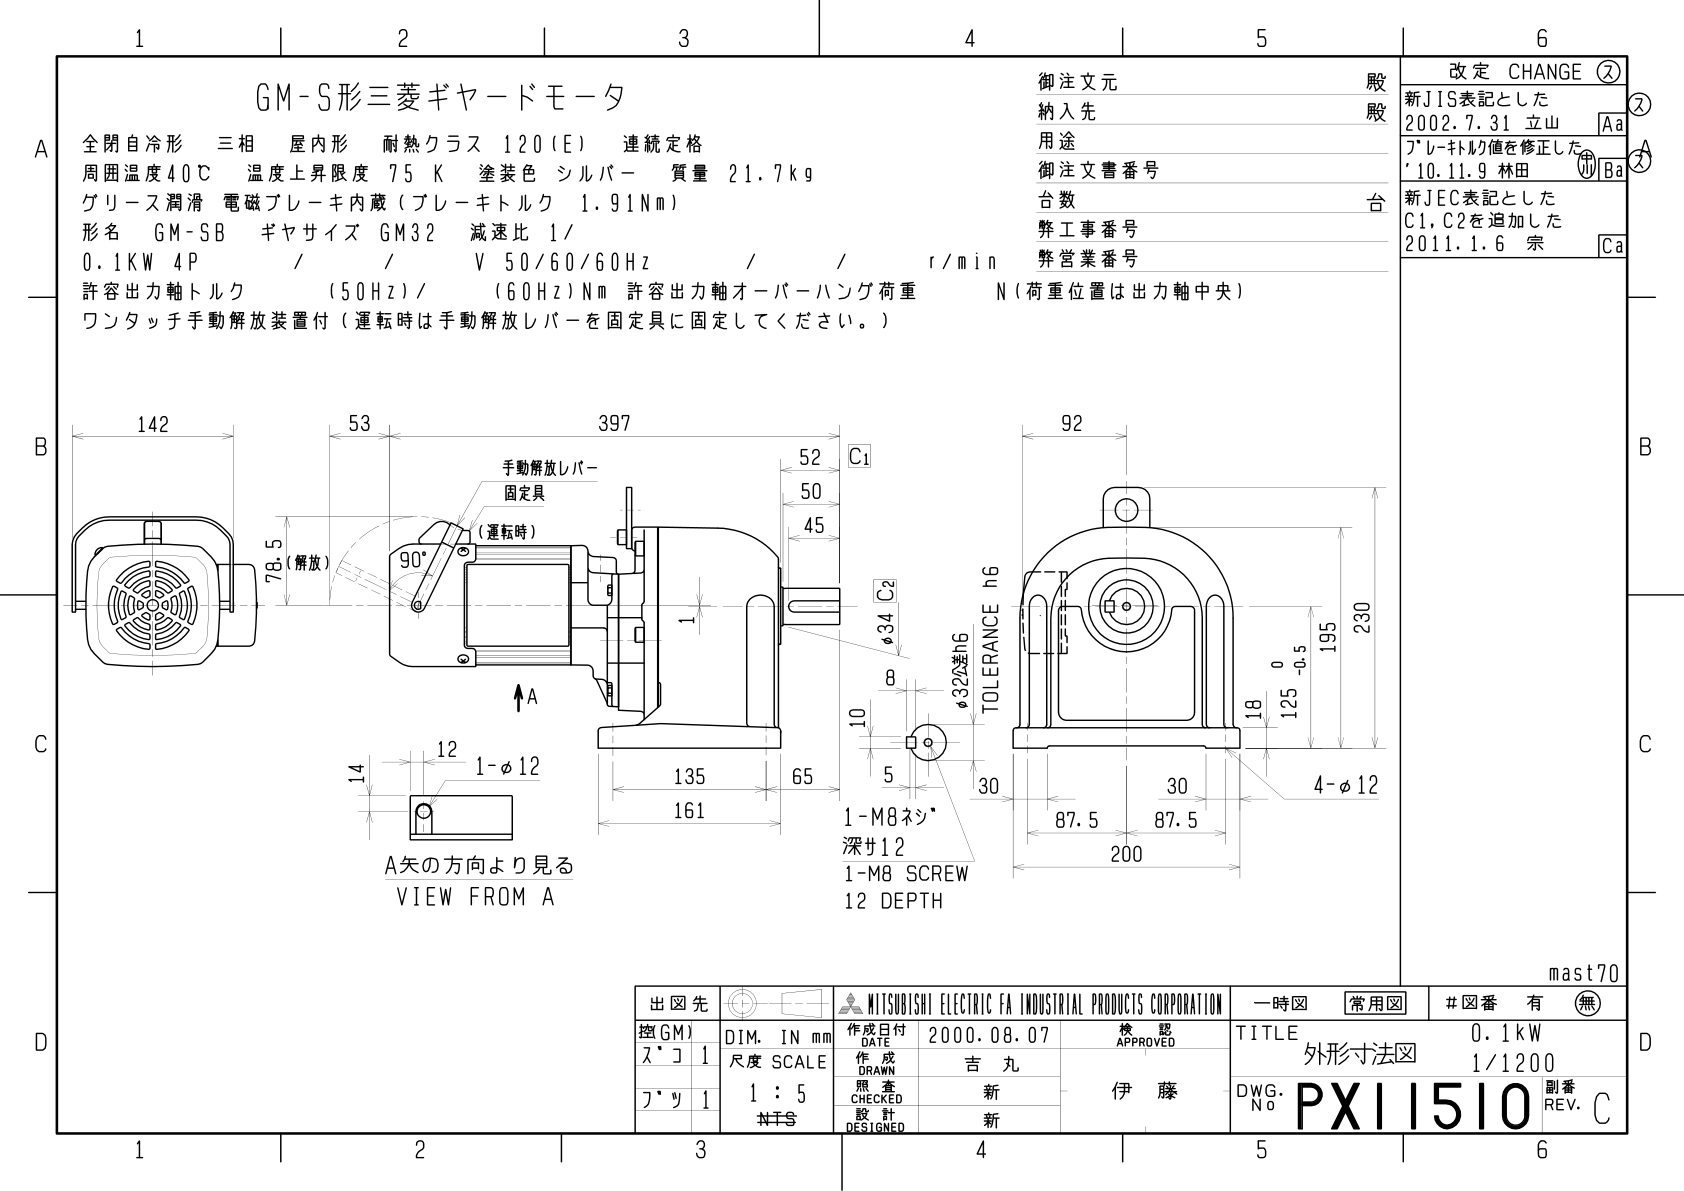GM_S_手動ブレーキ＿三相_脚: (6, 8, 1684, 1191)
